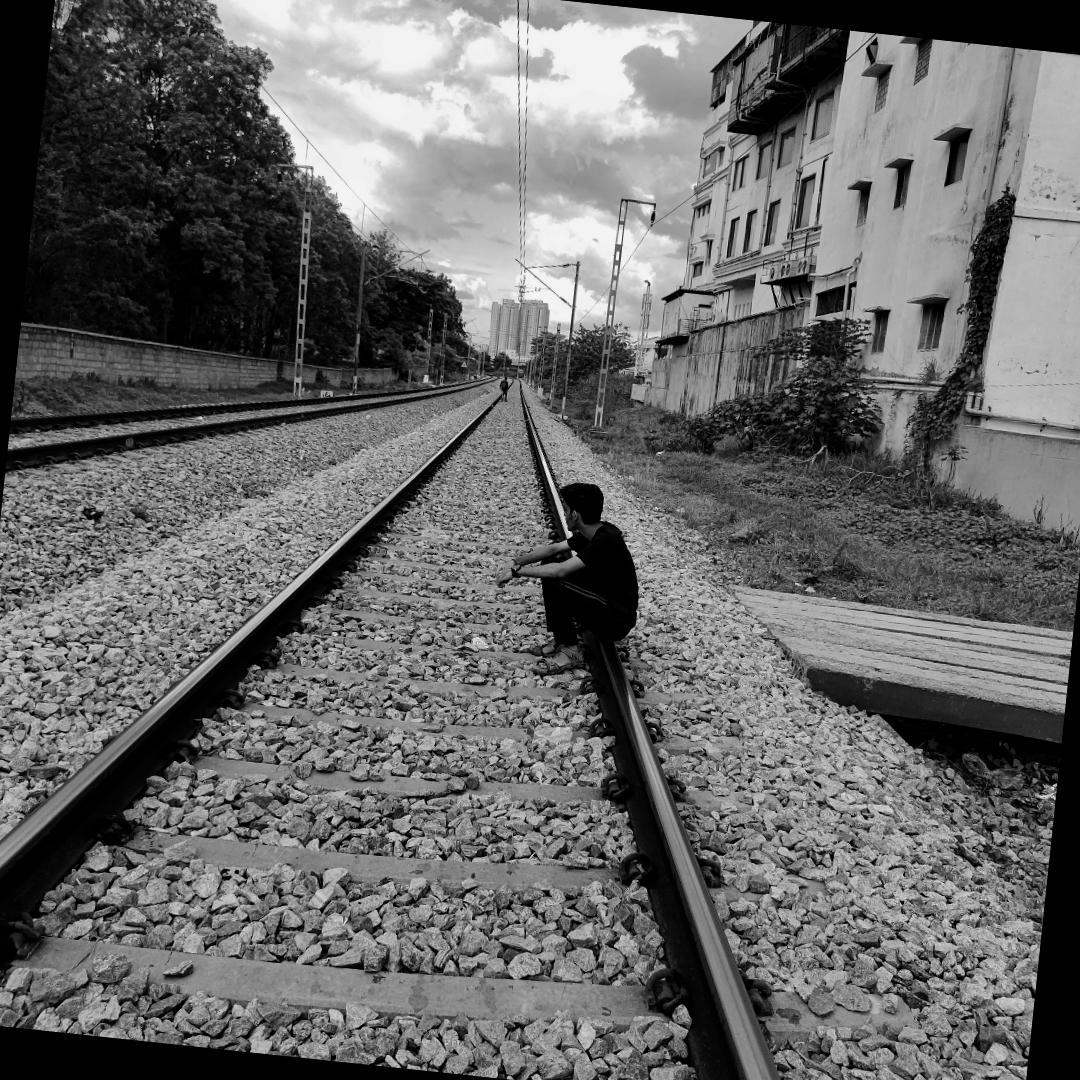sitting: (465, 457, 674, 690)
